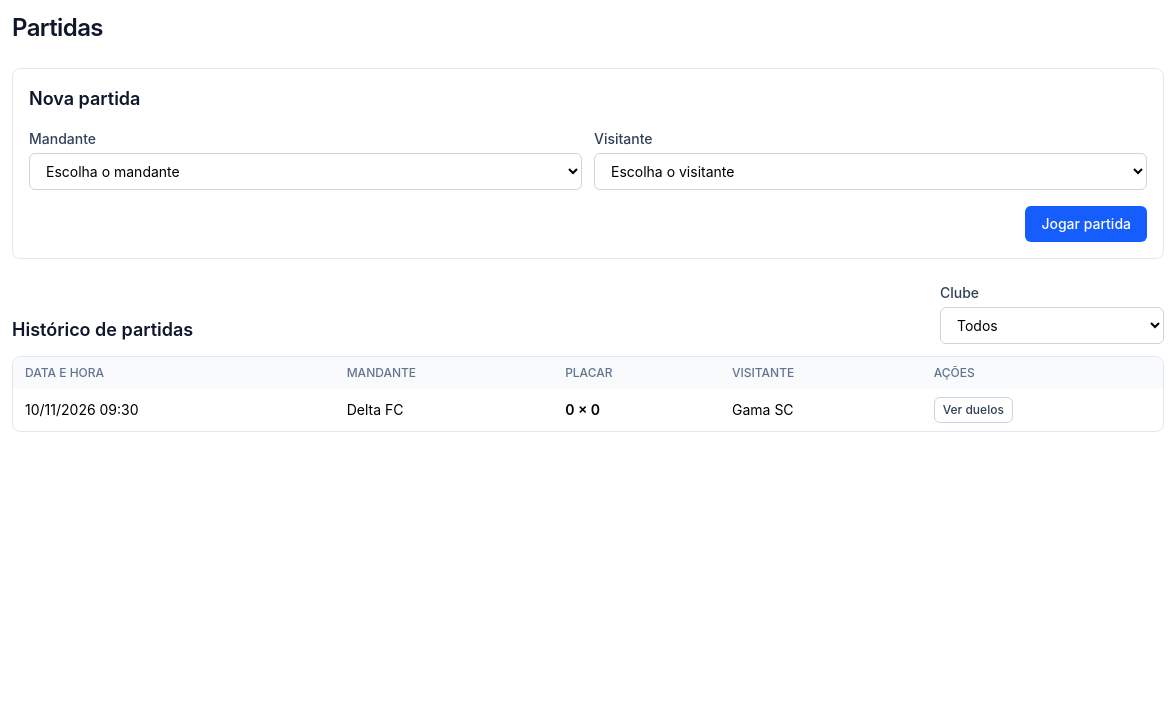
Scenario: MatchesPage › joga a partida com um só pedido e mostra o placar e os 6 duelos da API
The width and height of the screenshot is (1176, 724).
Select "AGU – Águias FC" in the dropdown labelled "Mandante" at (306, 172), box 29,153 -> 582,190
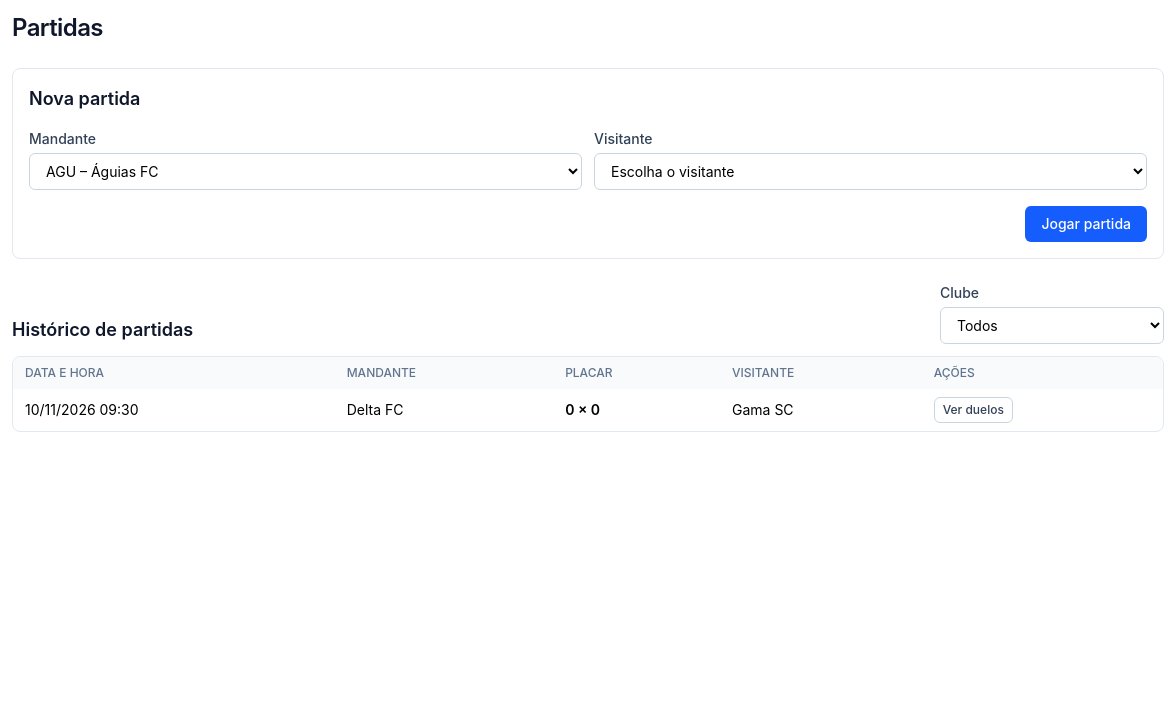
Select "DEL – Delta FC" in the dropdown labelled "Visitante" at (870, 172), box 594,153 -> 1147,190
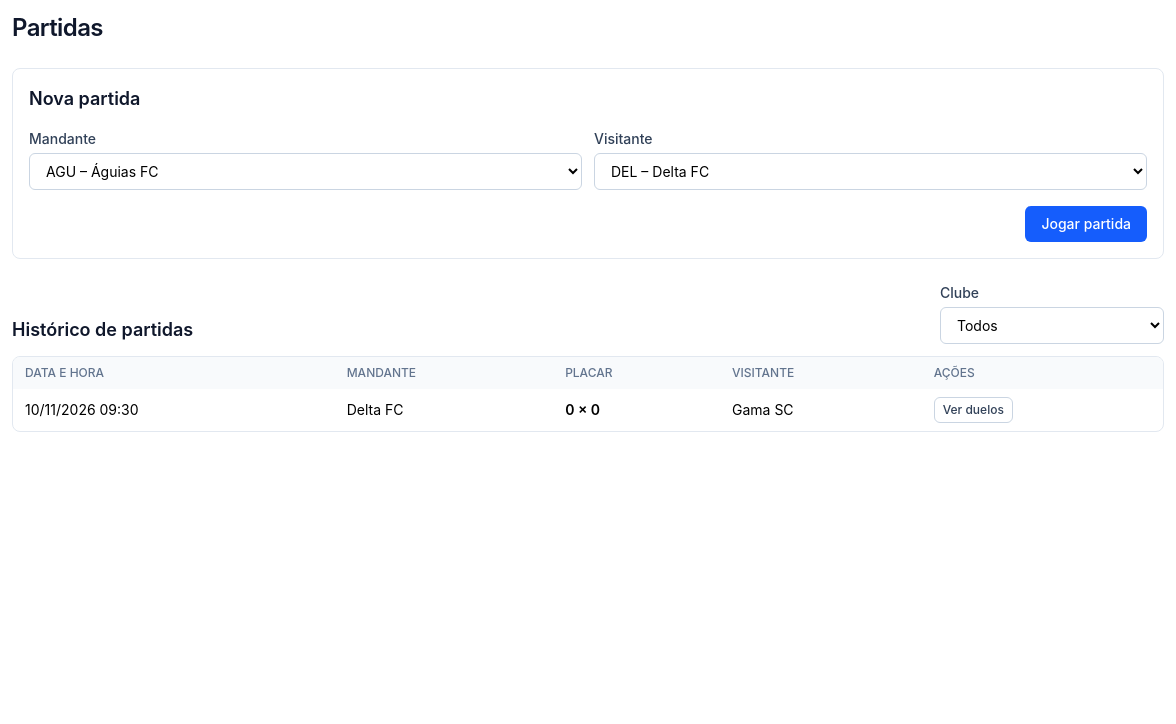
Click the button "Jogar partida" at (1086, 224), box 1025,206 -> 1147,242
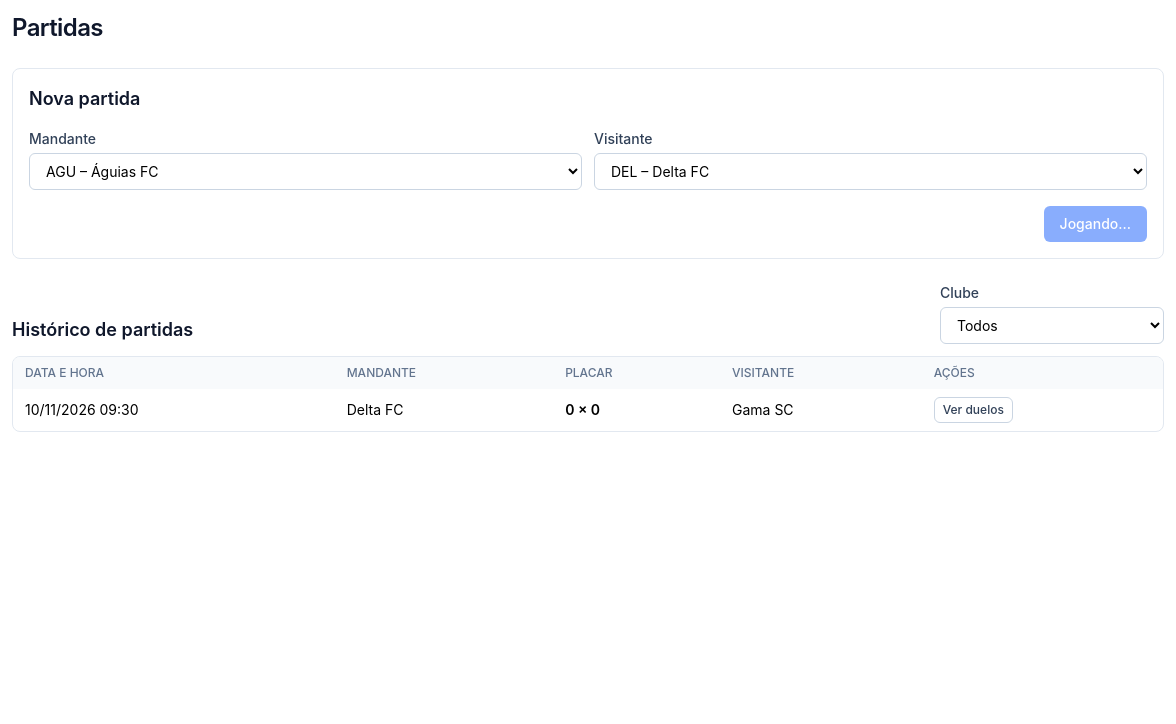
Click the button named "Jogar partida" at (1095, 224), box 1044,206 -> 1147,242
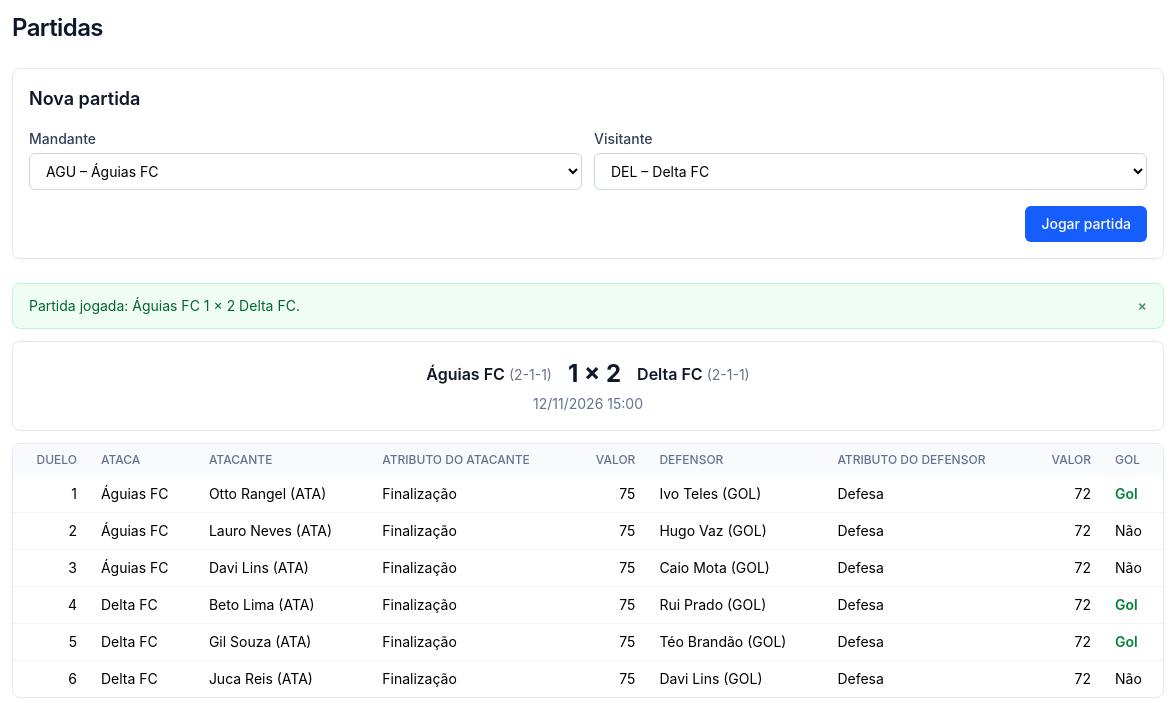
Now the text "Partida jogada: Águias FC 1 × 2 Delta FC." is shown, box 29,296 -> 300,316
Now the cell "Não" in the row of "Lauro Neves (ATA)" is shown, box 1115,522 -> 1142,539
Now the cell "Delta FC" next to "Beto Lima (ATA)" is shown, box 101,596 -> 158,613
